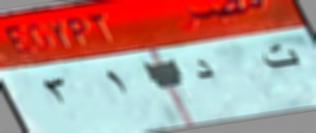1: (98, 69, 132, 103)
3: (40, 75, 74, 110)
daal: (188, 51, 220, 89)
taa: (255, 39, 303, 73)
